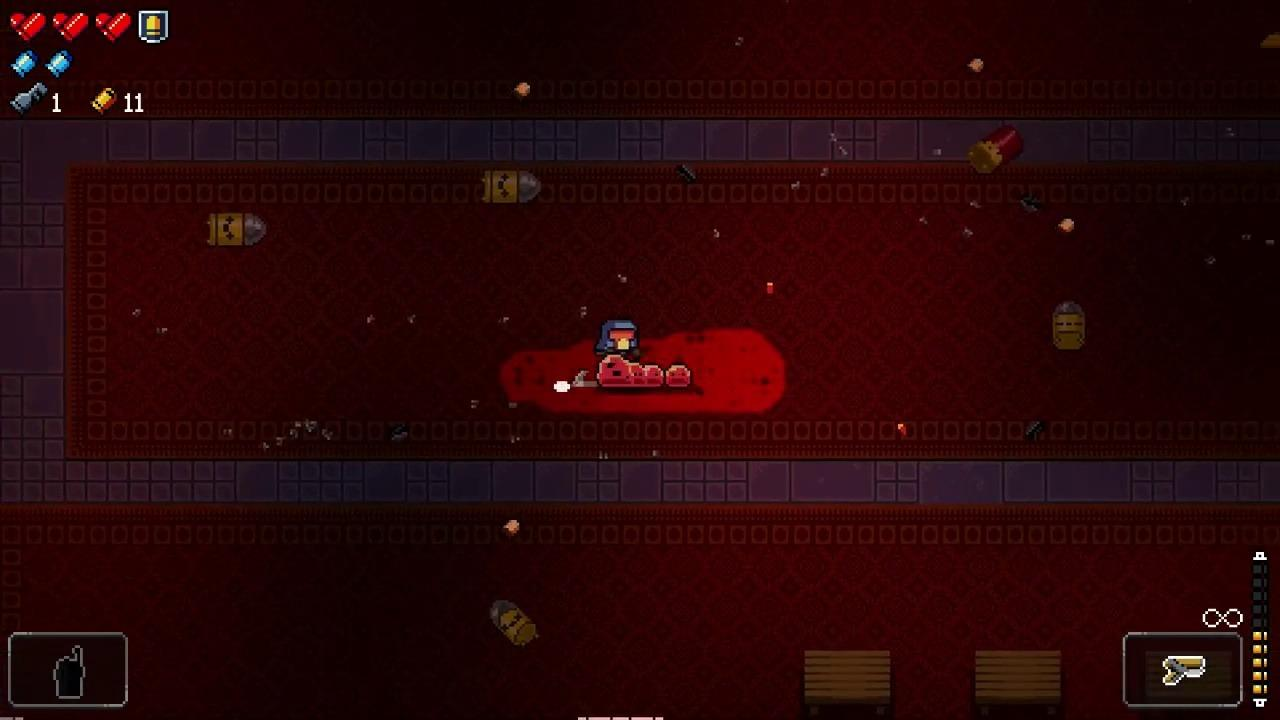blobulin_s: (595, 357, 632, 387), (666, 365, 693, 388), (642, 367, 664, 388)
dead_bullet_kin: (489, 598, 538, 648), (205, 212, 266, 248), (480, 170, 541, 203), (1054, 301, 1089, 350)
player: (595, 321, 640, 357)
table: (974, 651, 1061, 713), (805, 650, 891, 708)
